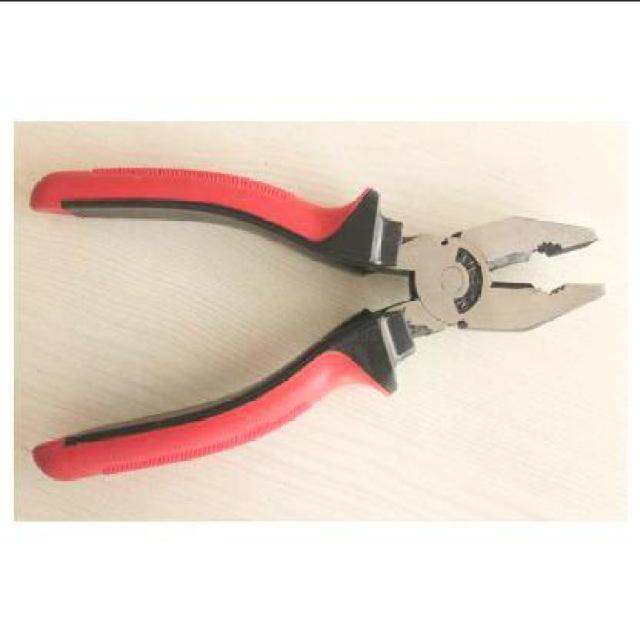pliers: (30, 166, 613, 471)
